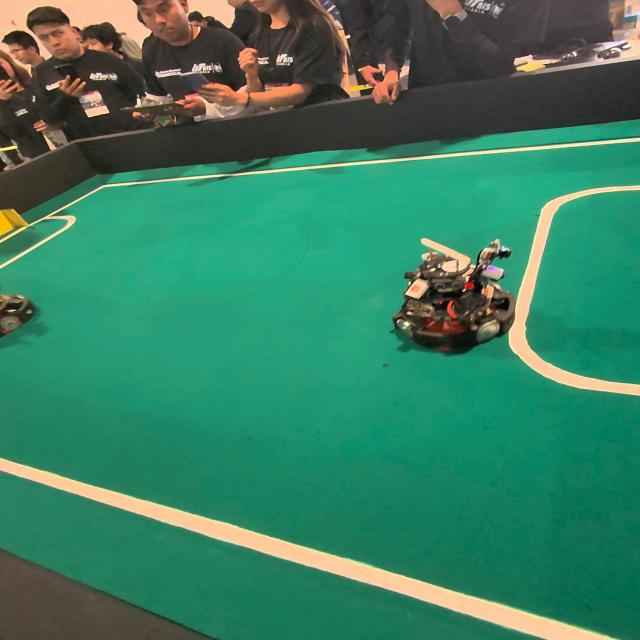Robot: (391, 222, 520, 368)
